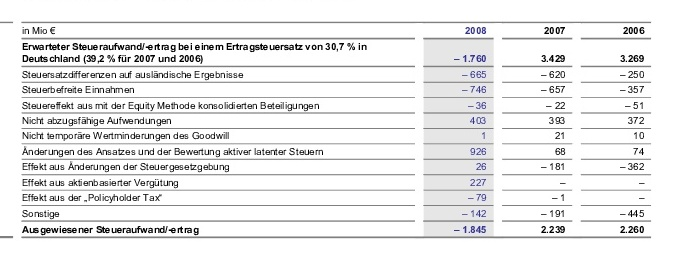table: (0, 0, 675, 258)
